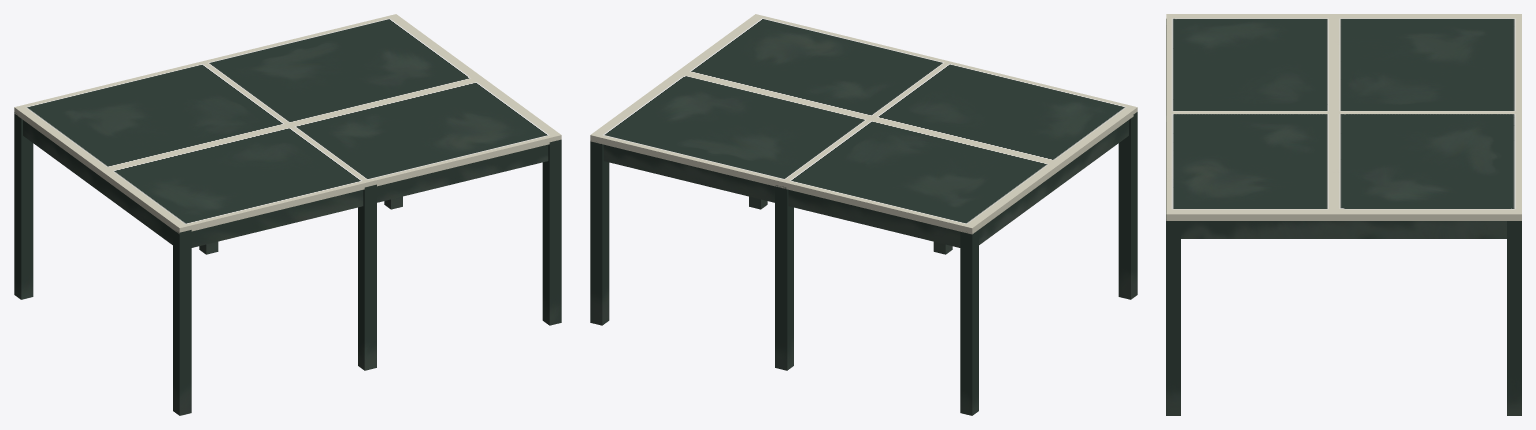
The model's file is m_prom_table_lod1.fbx.
3 renders of one model, left to right at view 1: azimuth 30°, elevation 25°; view 2: azimuth 150°, elevation 25°; view 3: azimuth 270°, elevation 25°, orthographic. The views are drawn at different scales.
Parts seen in each view (by area): view 1: polySurface1; view 2: polySurface1; view 3: polySurface1.
Part boxes in pixels (x1,y1,x2,y2): polySurface1: (14,14,561,415); polySurface1: (590,14,1137,415); polySurface1: (1166,14,1521,415).
Size of the model in its own units: 48 by 22.54 by 36.02.
